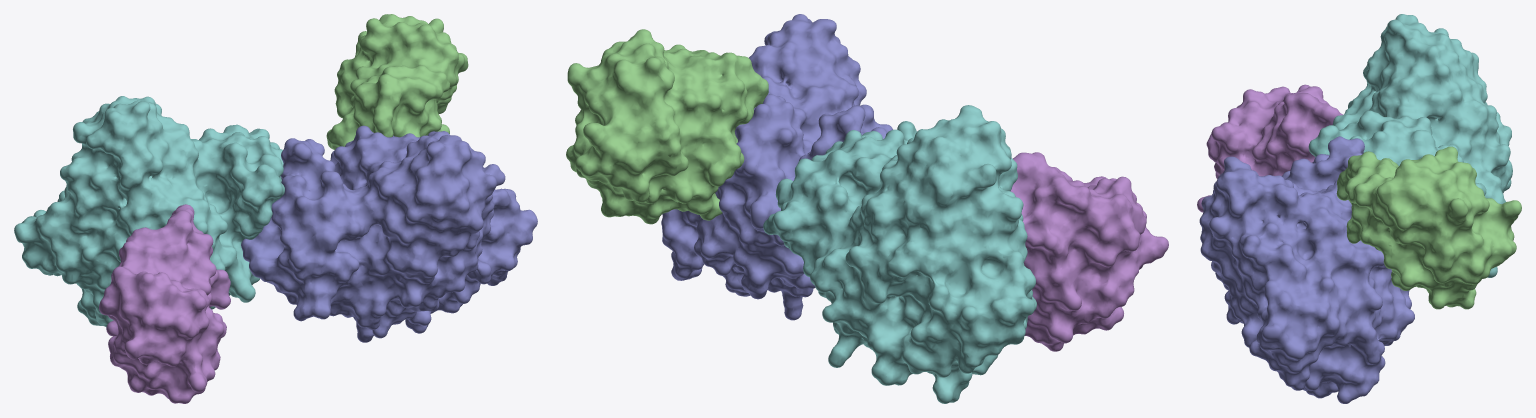
The model's file is nlgn-nrxn-3biw.glb.
3 renders of one model, left to right at view 1: azimuth 30°, elevation 25°; view 2: azimuth 150°, elevation 25°; view 3: azimuth 270°, elevation 25°, orthographic. The views are drawn at different scales.
Visible parts, largest first — view 1: nlgn-nrxn-3biw_mesh; view 2: nlgn-nrxn-3biw_mesh; view 3: nlgn-nrxn-3biw_mesh.
Part boxes in pixels (left/top/right/bottom): nlgn-nrxn-3biw_mesh: left=14, top=14, right=537, bottom=403; nlgn-nrxn-3biw_mesh: left=566, top=14, right=1168, bottom=403; nlgn-nrxn-3biw_mesh: left=1197, top=14, right=1521, bottom=403.
Bounding box in the file's own units: 1.32 × 0.7803 × 0.8634.
